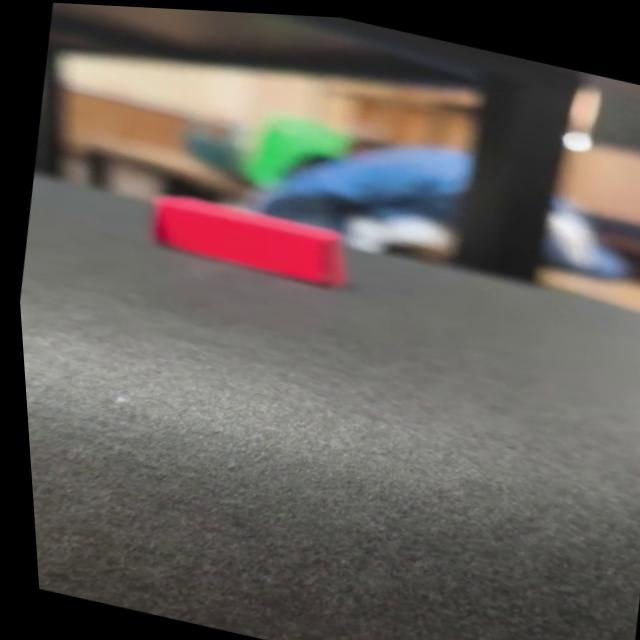red block: (142, 184, 356, 290)
